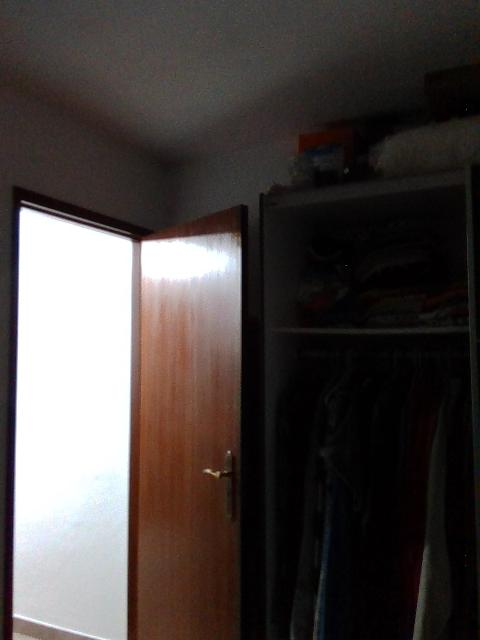open_door: (3, 184, 154, 638)
